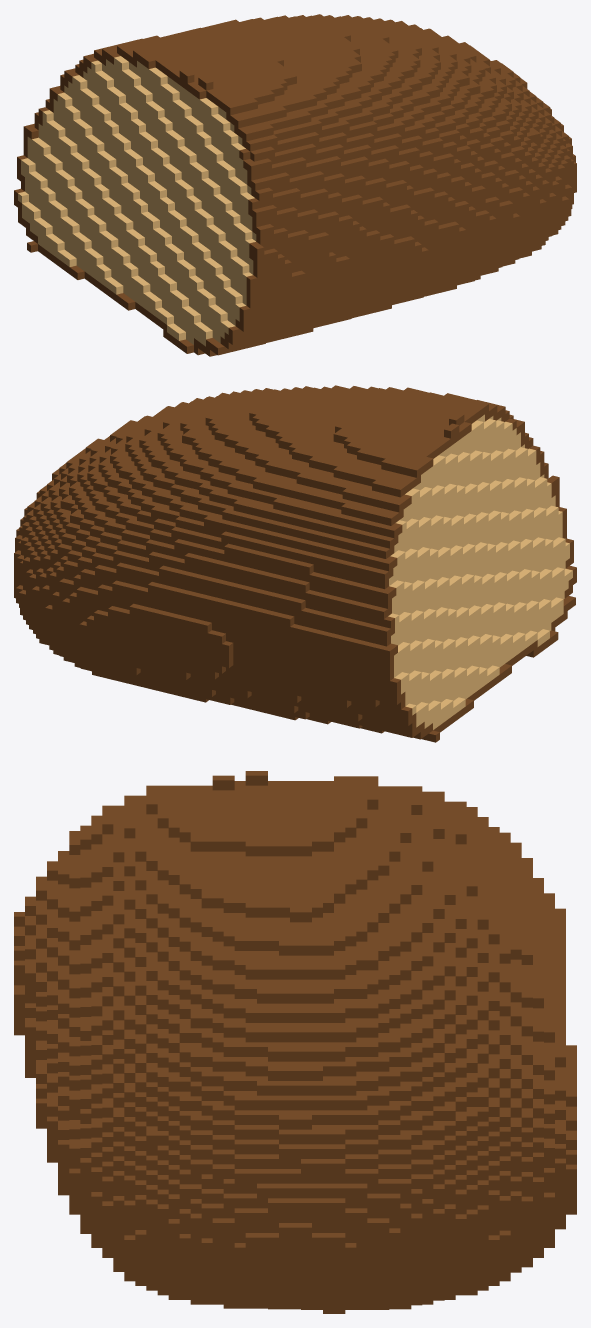
The model's file is Bread Loaf Half.obj.
3 renders of one model, top to bottom at view 1: azimuth 30°, elevation 25°; view 2: azimuth 150°, elevation 25°; view 3: azimuth 270°, elevation 25°, orthographic. The views are drawn at different scales.
Bounding box in the file's own units: 6.5 × 3.2 × 5.1.
Materials: 1 (1 with a texture image).
